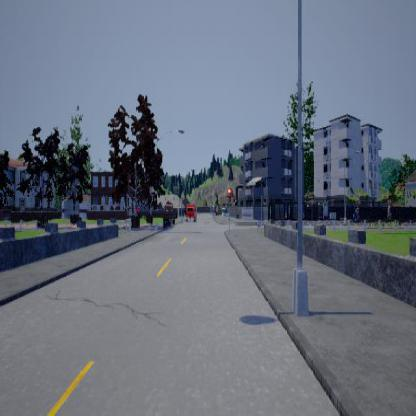traffic_light_red: (227, 187, 231, 205)
vehicle: (185, 202, 197, 221)
